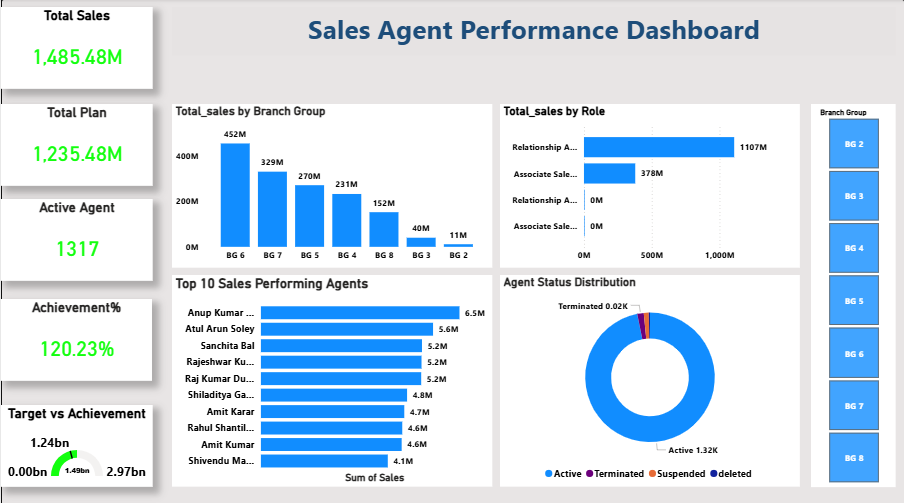

Layout of this report page (visuals, bound fields, positions):
{"tool":"powerbi","page":{"name":"Page 1","canvas":[1280,720],"ordinal":0},"visuals":[{"type":"card","title":"Total Sales","fields":{"Values":["Sheet1.Total_sales"]},"box":[0,11.3,215.4,116.2],"z":0},{"type":"clusteredColumnChart","fields":{"Category":["Sheet1.Branch Group"],"Y":["Sheet1.Total_sales"]},"box":[242.4,148.8,453.5,232.4],"z":1000},{"type":"donutChart","title":"Agent Status Distribution","fields":{"Category":["Sheet1.Status"],"Y":["CountNonNull(Sheet1.Agent ID)"]},"box":[707.2,391.2,425.2,300.5],"z":2000},{"type":"clusteredBarChart","fields":{"Y":["Sheet1.Total_sales"],"Category":["Sheet1.Role"]},"box":[707.2,148.8,425.2,232.4],"z":3000},{"type":"clusteredBarChart","title":"Top 10 Sales Performing Agents","fields":{"Category":["Sheet1.Agent Name"],"Y":["Sum(Sheet1.Sales)"]},"box":[242.4,391.2,453.5,300.5],"z":4000},{"type":"card","title":"Total Plan","fields":{"Values":["Sheet1.Total_plan"]},"box":[0,148.8,215.4,116.2],"z":5000},{"type":"card","title":"Active Agent","fields":{"Values":["Sheet1.Active_agent"]},"box":[0,283.5,215.4,116.2],"z":6000},{"type":"card","title":"Achievement%","fields":{"Values":["Sheet1.Ach%"]},"box":[0,425.2,214,116.2],"z":7000},{"type":"gauge","title":"Target vs Achievement","fields":{"TargetValue":["Sum(Sheet1.Plan)"],"Y":["Sum(Sheet1.Sales)"]},"box":[0,575.4,215.4,116.2],"z":8000},{"type":"textbox","box":[242.4,11.3,1026.1,69.4],"z":9000},{"type":"slicer","fields":{"Values":["Sheet1.Branch Group"]},"box":[1148,148.8,120.5,542.8],"z":10000}]}

Visuals, with their boxes in screenshot pixels (x1, y1, x2, y2), scaled from the page's 1280x720 canvas onto the 904x503 screenshot:
"Total Sales" card: region(0, 8, 152, 89)
clusteredColumnChart - Sheet1.Branch Group x Sheet1.Total_sales: region(171, 104, 491, 266)
"Agent Status Distribution" donutChart: region(499, 273, 800, 483)
clusteredBarChart - Sheet1.Total_sales x Sheet1.Role: region(499, 104, 800, 266)
"Top 10 Sales Performing Agents" clusteredBarChart: region(171, 273, 491, 483)
"Total Plan" card: region(0, 104, 152, 185)
"Active Agent" card: region(0, 198, 152, 279)
"Achievement%" card: region(0, 297, 151, 378)
"Target vs Achievement" gauge: region(0, 402, 152, 483)
textbox: region(171, 8, 896, 56)
slicer - Sheet1.Branch Group: region(811, 104, 896, 483)
